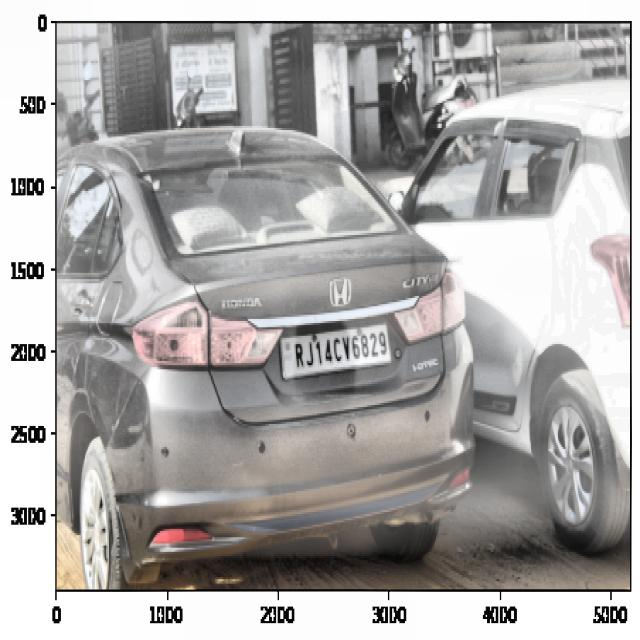license_plate: (291, 326, 390, 369)
